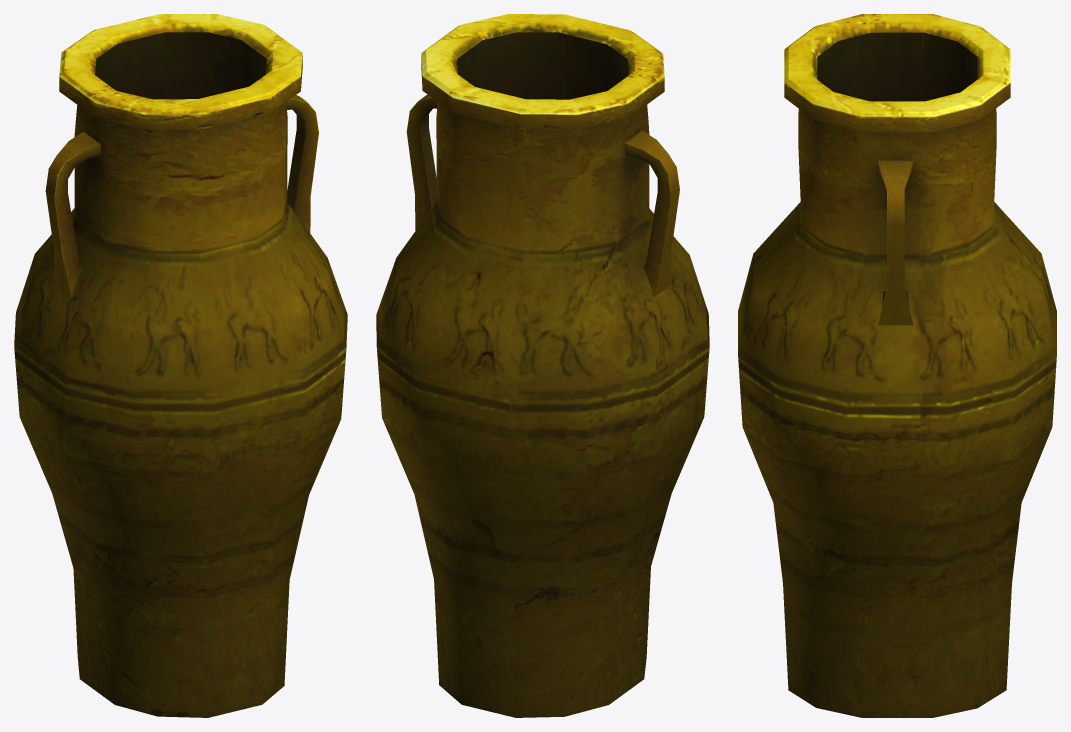
The model's file is vase_sumer_big_gold.dae.
3 views of the same model, side by side, from view 1: azimuth 30°, elevation 25°; view 2: azimuth 150°, elevation 25°; view 3: azimuth 270°, elevation 25° (orthographic).
Visible parts, largest first — view 1: polySurface1; view 2: polySurface1; view 3: polySurface1.
Boxes of the visible parts, box(x1,y1,x2,y2) form: polySurface1: box(14, 14, 347, 717); polySurface1: box(376, 14, 709, 717); polySurface1: box(738, 14, 1056, 717).
Bounding box in the file's own units: 0.5857 × 1.21 × 0.5693.
